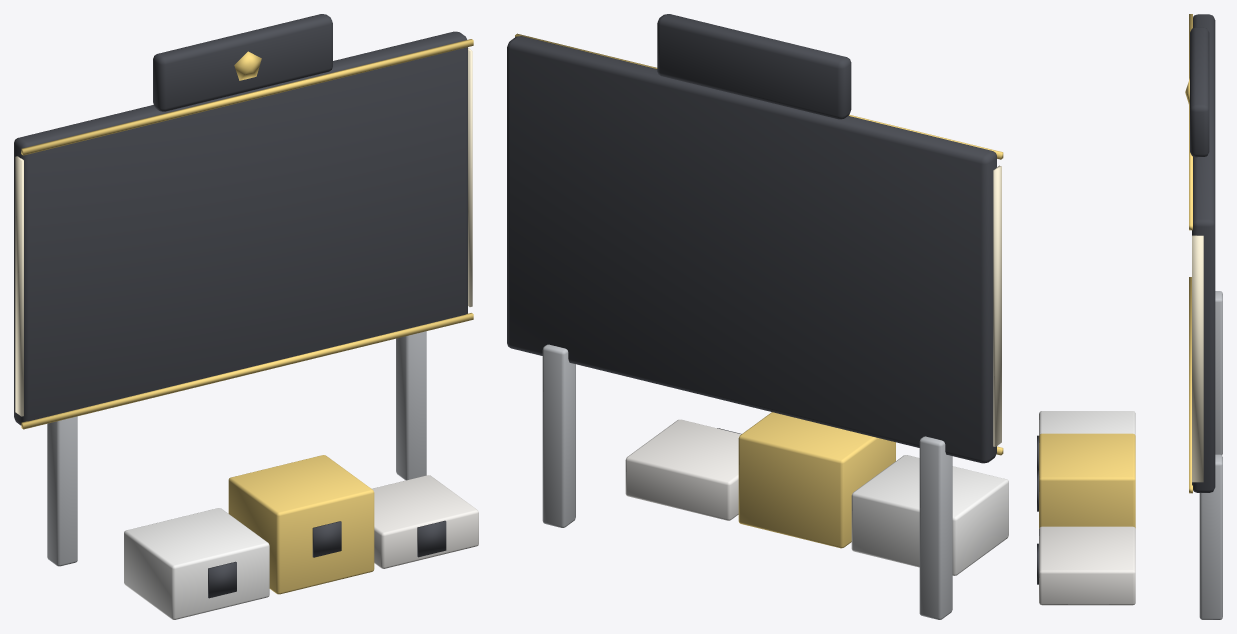
Rendered from LeaderboardFrame.fbx.
3 views of the same model, side by side, from view 1: azimuth 30°, elevation 25°; view 2: azimuth 150°, elevation 25°; view 3: azimuth 270°, elevation 25° (orthographic). The views are drawn at different scales.
Visible parts, largest first — view 1: Dark.004, Gold.002, White.002, Metal.002, Marble.002, Glow.004; view 2: Dark.004, Gold.002, Metal.002, White.002, Marble.002, Glow.004; view 3: Gold.002, Dark.004, Marble.002, Metal.002, Glow.004, White.002.
Part boxes in pixels (x1,y1,x2,y2): Dark.004: (14,14,467,598); Gold.002: (21,39,473,594); White.002: (124,508,269,619); Metal.002: (47,331,426,566); Marble.002: (372,475,478,568); Glow.004: (15,48,472,416); Dark.004: (507,14,996,463); Gold.002: (515,33,1003,548); Metal.002: (542,344,952,619); White.002: (851,455,1008,575); Marble.002: (625,419,740,520); Glow.004: (993,165,1001,446); Gold.002: (1039,14,1192,528); Dark.004: (1037,14,1215,584); Marble.002: (1039,526,1135,605); Metal.002: (1199,291,1222,619); Glow.004: (1192,235,1203,482); White.002: (1039,411,1135,435).
Size of the model in its own units: 25.85 by 26.7 by 9.6.
